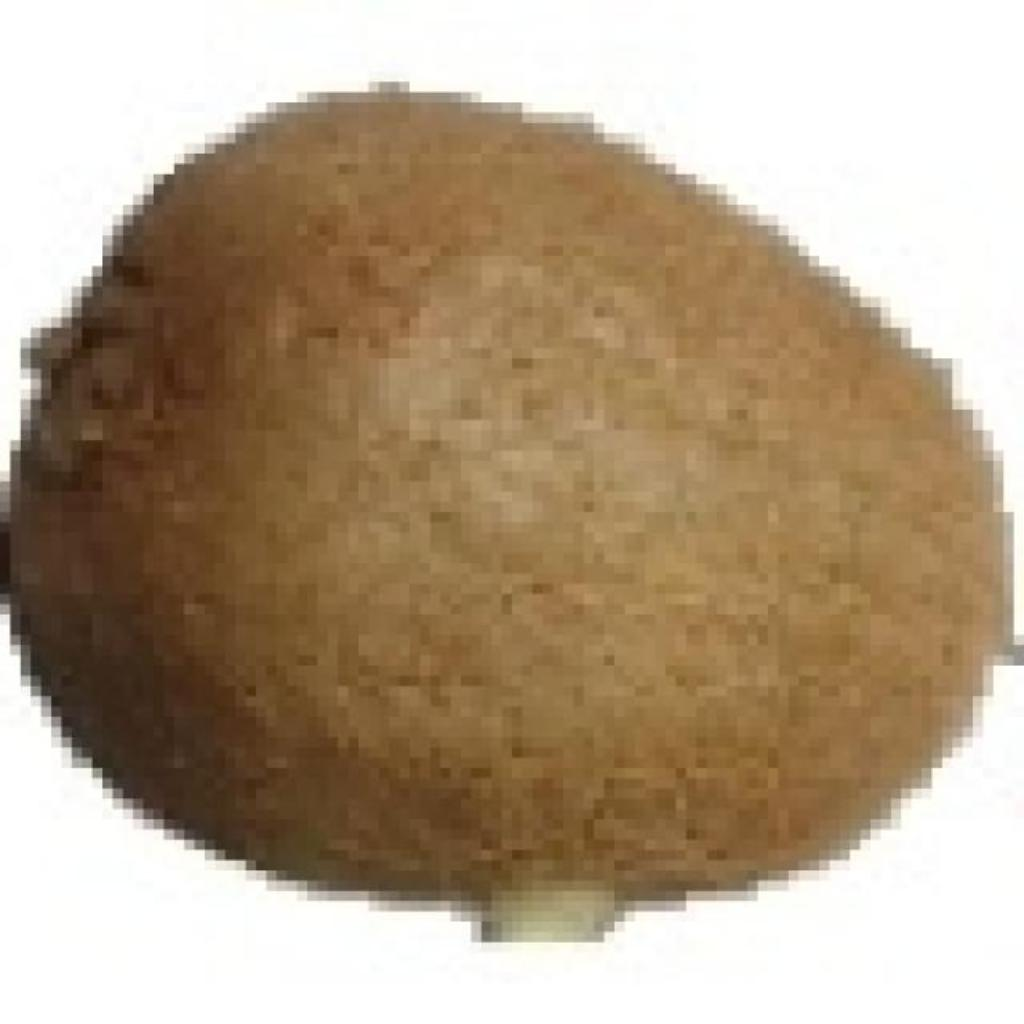kiwi: (31, 82, 1014, 911)
